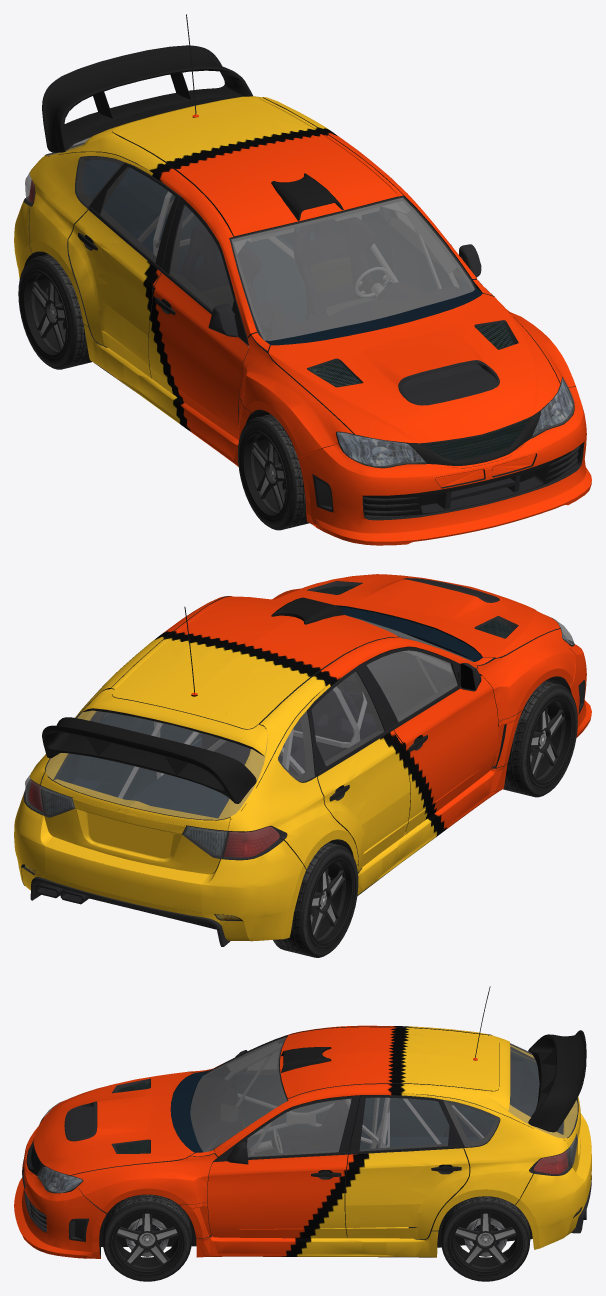
Rendered from 2010_subaru_rally_car.glb.
3 renders of one model, top to bottom at view 1: azimuth 30°, elevation 25°; view 2: azimuth 150°, elevation 25°; view 3: azimuth 270°, elevation 25°, orthographic. The views are drawn at different scales.
Parts seen in each view (by area): view 1: Body_Body_0, Glass_Glass_0, Inside_Inside_0, Body_BottomCar_0, FR_Wheel_0, BR_Wheel_0, FR_Ref_0, BR_Ref_0; view 2: Body_Body_0, Glass_Glass_0, Inside_Inside_0, FR_Wheel_0, BR_Wheel_0, FR_Ref_0, BR_Ref_0, Body_BottomCar_0; view 3: Body_Body_0, Glass_Glass_0, Inside_Inside_0, FL_Wheel_0, BL_Wheel_0, FL_Ref_0, BL_Ref_0, Body_BottomCar_0.
Boxes of the visible parts, x1,y1,x2,y2 form: Body_Body_0: [14, 14, 591, 545]; Glass_Glass_0: [25, 137, 574, 467]; Inside_Inside_0: [180, 217, 471, 425]; Body_BottomCar_0: [24, 160, 591, 541]; FR_Wheel_0: [238, 414, 309, 530]; BR_Wheel_0: [18, 254, 91, 369]; FR_Ref_0: [242, 431, 287, 518]; BR_Ref_0: [22, 270, 67, 357]; Body_Body_0: [14, 574, 591, 946]; Glass_Glass_0: [25, 615, 574, 858]; Inside_Inside_0: [198, 637, 453, 775]; FR_Wheel_0: [503, 681, 577, 797]; BR_Wheel_0: [273, 842, 358, 957]; FR_Ref_0: [528, 698, 573, 785]; BR_Ref_0: [309, 858, 354, 945]; Body_BottomCar_0: [30, 676, 591, 939]; Body_Body_0: [20, 986, 591, 1258]; Glass_Glass_0: [37, 1037, 578, 1192]; Inside_Inside_0: [187, 1077, 351, 1157]; FL_Wheel_0: [103, 1194, 191, 1281]; BL_Wheel_0: [441, 1196, 530, 1281]; FL_Ref_0: [113, 1211, 181, 1273]; BL_Ref_0: [451, 1211, 519, 1273]; Body_BottomCar_0: [14, 1131, 586, 1258].
Size of what is drawn, in the model's own units: 1.06 by 1.1 by 2.38.
6 materials, 5 textured.
